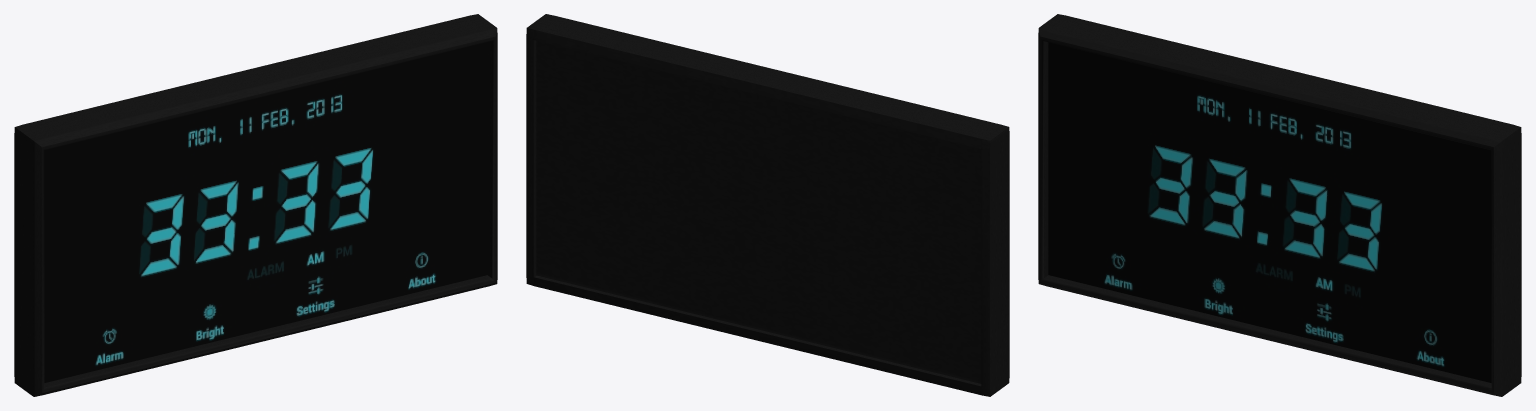
Rendered from Horloge.FBX.
3 renders of one model, left to right at view 1: azimuth 30°, elevation 25°; view 2: azimuth 150°, elevation 25°; view 3: azimuth 330°, elevation 25°, orthographic.
Visible parts, largest first — view 1: Digital_Clock; view 2: Digital_Clock; view 3: Digital_Clock.
Part boxes in pixels (x1,y1,x2,y2): Digital_Clock: (14, 14, 497, 396); Digital_Clock: (526, 14, 1009, 396); Digital_Clock: (1038, 14, 1521, 396).
Size of the model in its own units: 20.45 by 10.81 by 1.8.
Materials: 1 (1 with a texture image).
